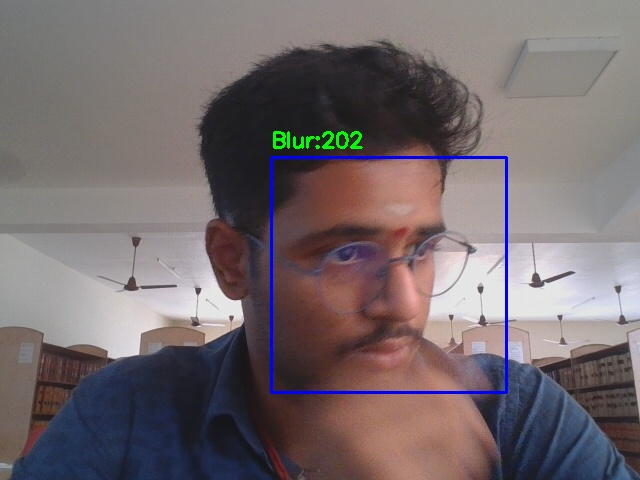real: (271, 157, 506, 392)
